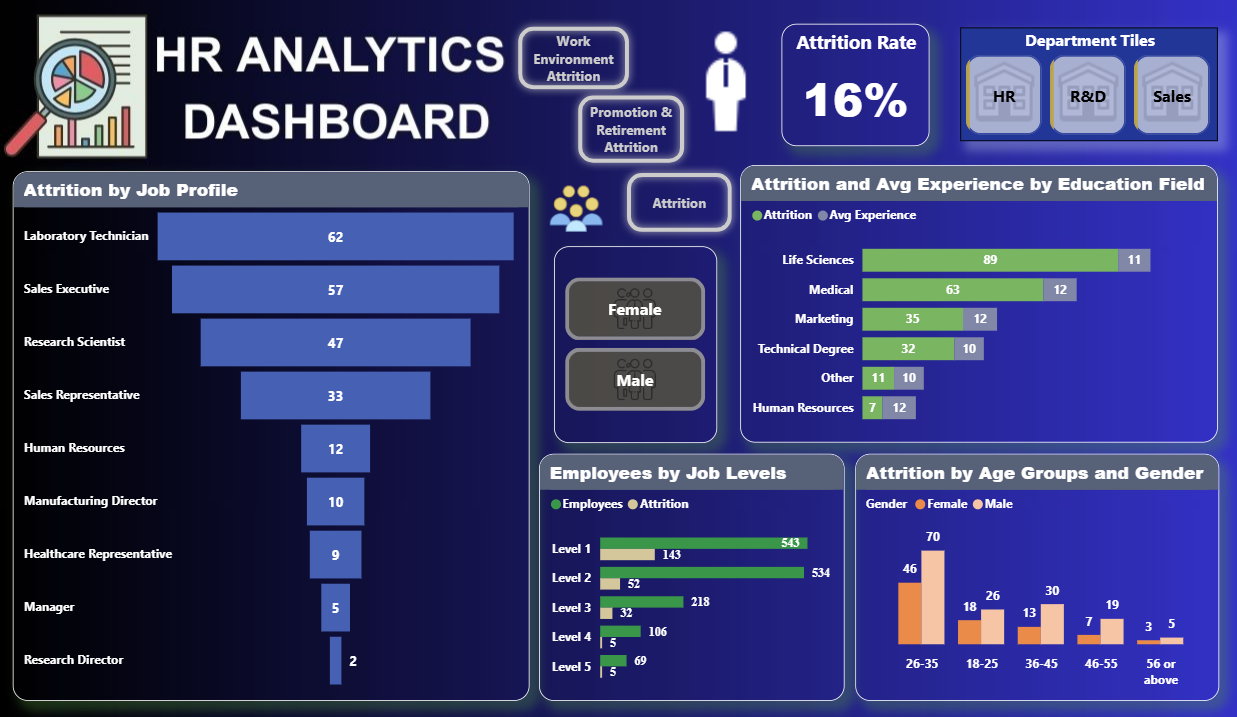

The page's visual inventory and layout, read from the dashboard file:
{"tool":"powerbi","page":{"name":"Job Profile Attrition","canvas":[1280,720],"ordinal":2},"visuals":[{"type":"funnel","title":"Attrition by Job Profile","fields":{"Category":["Dim_Employees Department.Job Role"],"Y":["Measurements.# Attrition"]},"box":[34.1,171.8,516.7,529.3],"z":0},{"type":"barChart","title":"Attrition and Avg Experience by Education Field","fields":{"Y":["Measurements.# Attrition","Measurements.Avg Experience Y"],"Category":["Dim_Employees.Education Field"]},"box":[761.3,165.3,477.8,277.5],"z":1000},{"type":"clusteredColumnChart","title":"Attrition by Age Groups and Gender","fields":{"Category":["Dim_Employees.Age Groups"],"Y":["Measurements.# Attrition"],"Series":["Dim_Employees.Gender"]},"box":[875.9,453.6,364.3,247.3],"z":2000},{"type":"actionButton","box":[639.4,165.3,120.6,74.8],"z":3000},{"type":"advancedSlicerVisual","title":"Gender Slicer","fields":{"Values":["Dim_Employees.Gender"]},"box":[575.5,246.1,162.9,196.6],"z":4000},{"type":"card","title":"Attrition Rate","fields":{"Values":["Measurements.% Attrition"]},"box":[802.2,24,147.8,122.5],"z":5000},{"type":"advancedSlicerVisual","title":"Department Tiles","fields":{"Values":["Dim_Employees Department.Department"]},"box":[981.6,27.8,257.7,113.7],"z":6000},{"type":"image","box":[682.2,22.7,128.9,120],"z":7000},{"type":"clusteredBarChart","title":"Employees by Job Levels","fields":{"Category":["Dim_Employees Department.Job Levels"],"Y":["Measurements.# Employees","Measurements.# Attrition"]},"box":[559.8,453.6,305.2,247.3],"z":8000},{"type":"image","box":[550.1,177.3,94.1,62.7],"z":9000},{"type":"actionButton","box":[530.8,19.3,126.7,78.4],"z":10000},{"type":"actionButton","box":[591.2,88.1,121.9,83.2],"z":11000}]}

Visuals, with their boxes in screenshot pixels (x1, y1, x2, y2), scaled from the page's 1280x720 canvas onto the 1237x717 screenshot:
"Attrition by Job Profile" funnel: 33,171,532,698
"Attrition and Avg Experience by Education Field" barChart: 736,165,1197,441
"Attrition by Age Groups and Gender" clusteredColumnChart: 846,452,1199,698
actionButton: 618,165,734,239
"Gender Slicer" advancedSlicerVisual: 556,245,714,441
"Attrition Rate" card: 775,24,918,146
"Department Tiles" advancedSlicerVisual: 949,28,1198,141
image: 659,23,784,142
"Employees by Job Levels" clusteredBarChart: 541,452,836,698
image: 532,177,623,239
actionButton: 513,19,635,97
actionButton: 571,88,689,171
